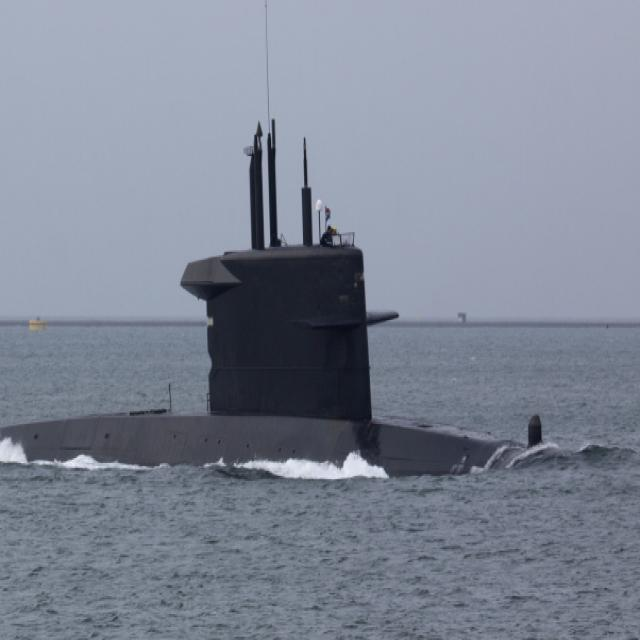submarine: (1, 115, 564, 469)
